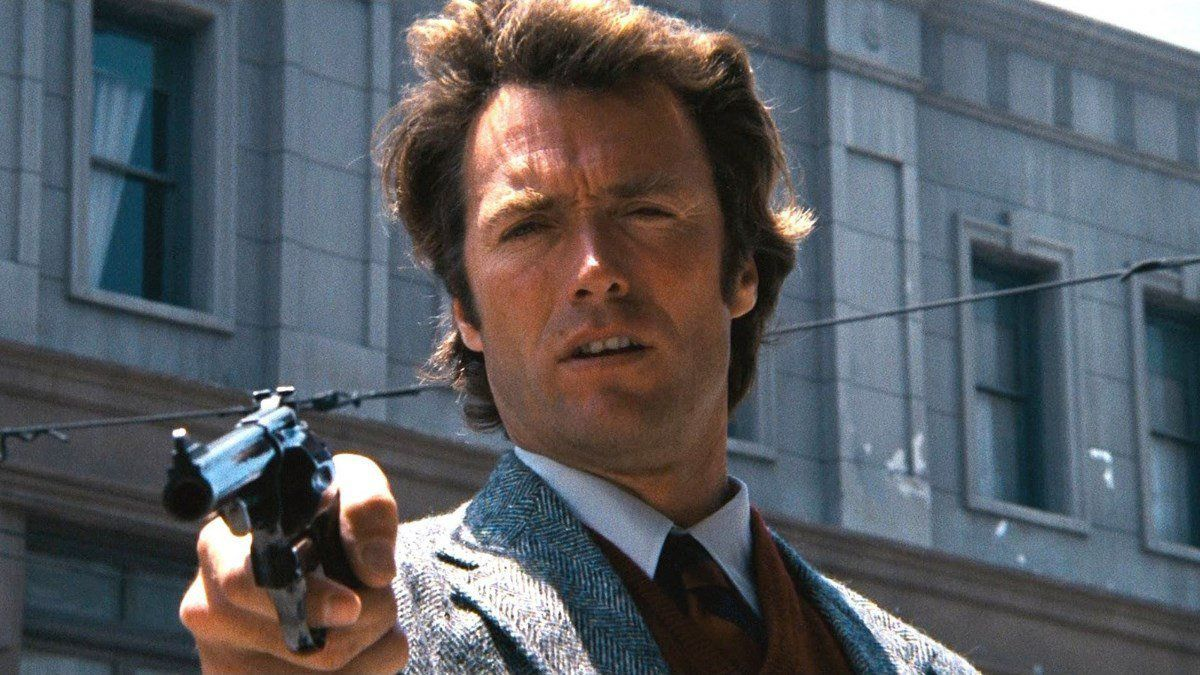Revolver: (122, 367, 410, 640), (122, 411, 410, 640)
